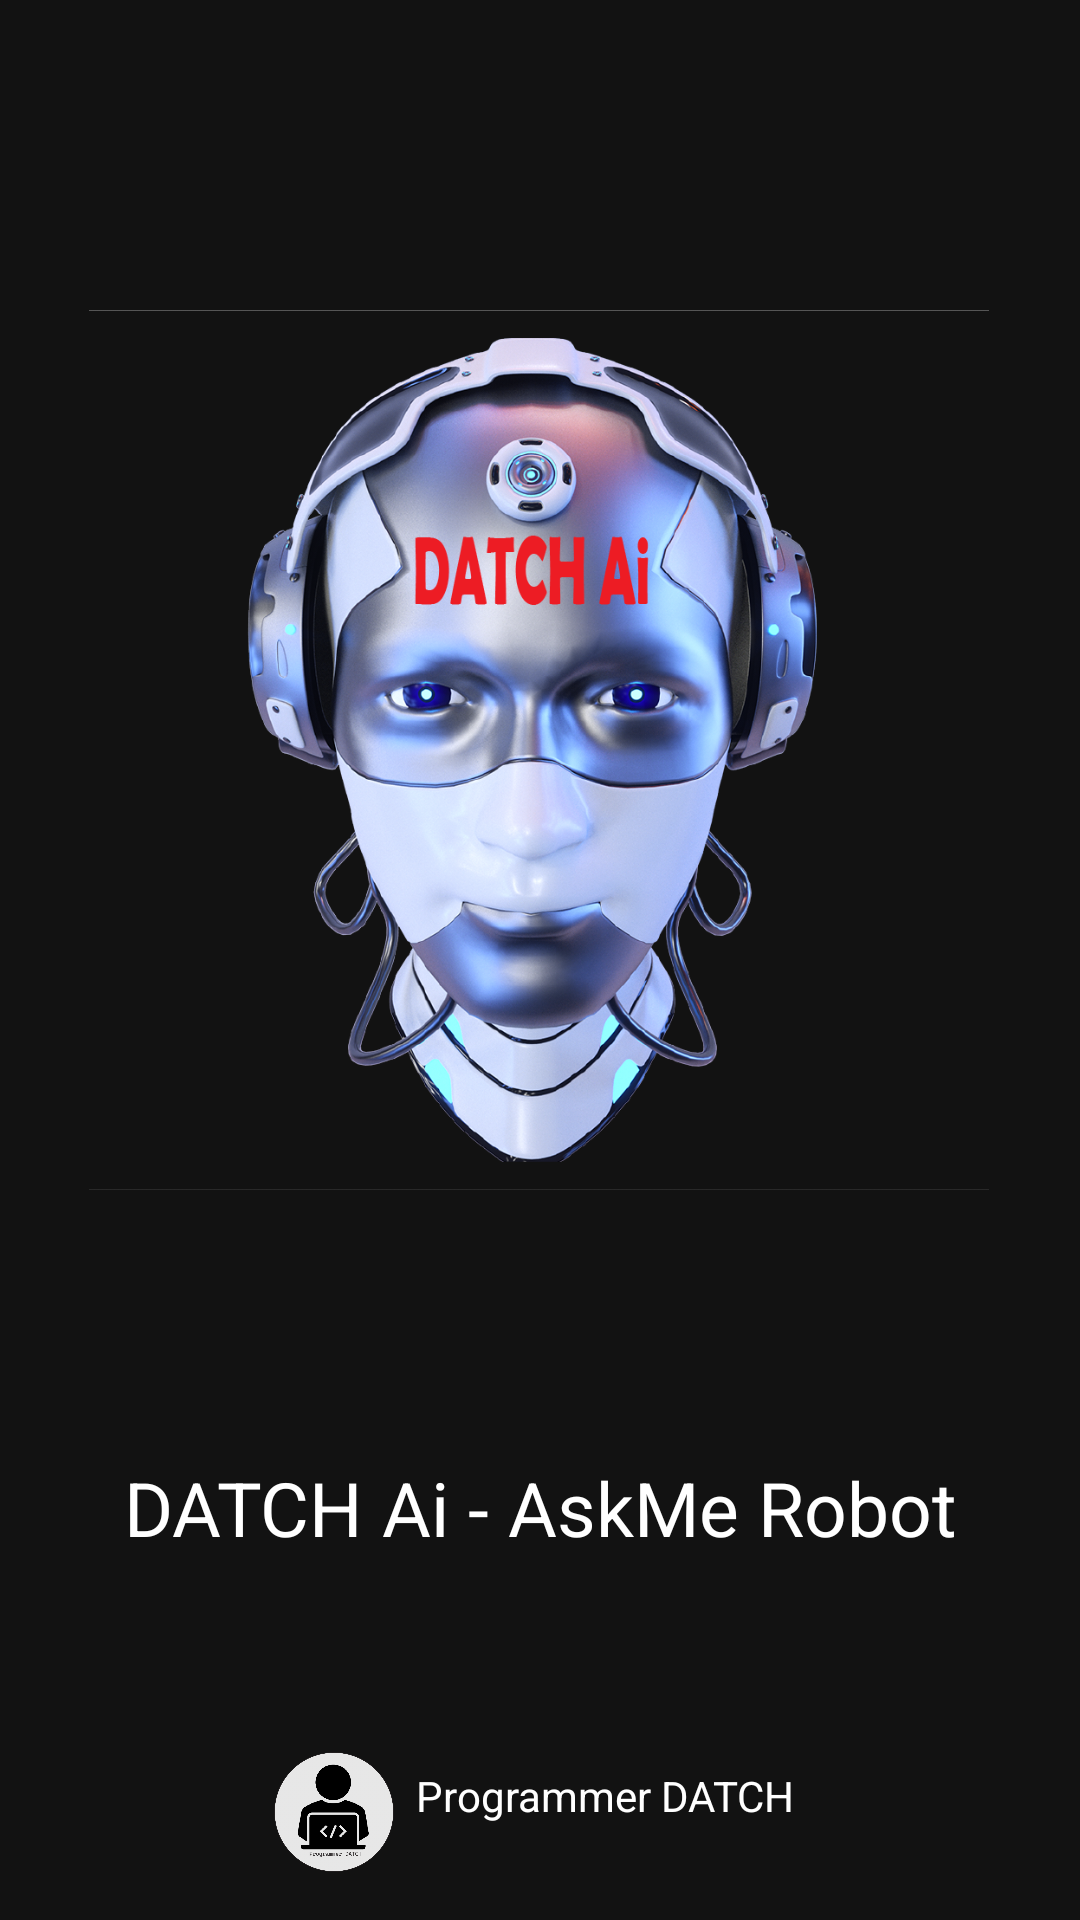

Locate icon controls on the screen. Image size 1080*1920, boxes as (x1, y1, x2, y2).
profile: (275, 1753, 393, 1871)
